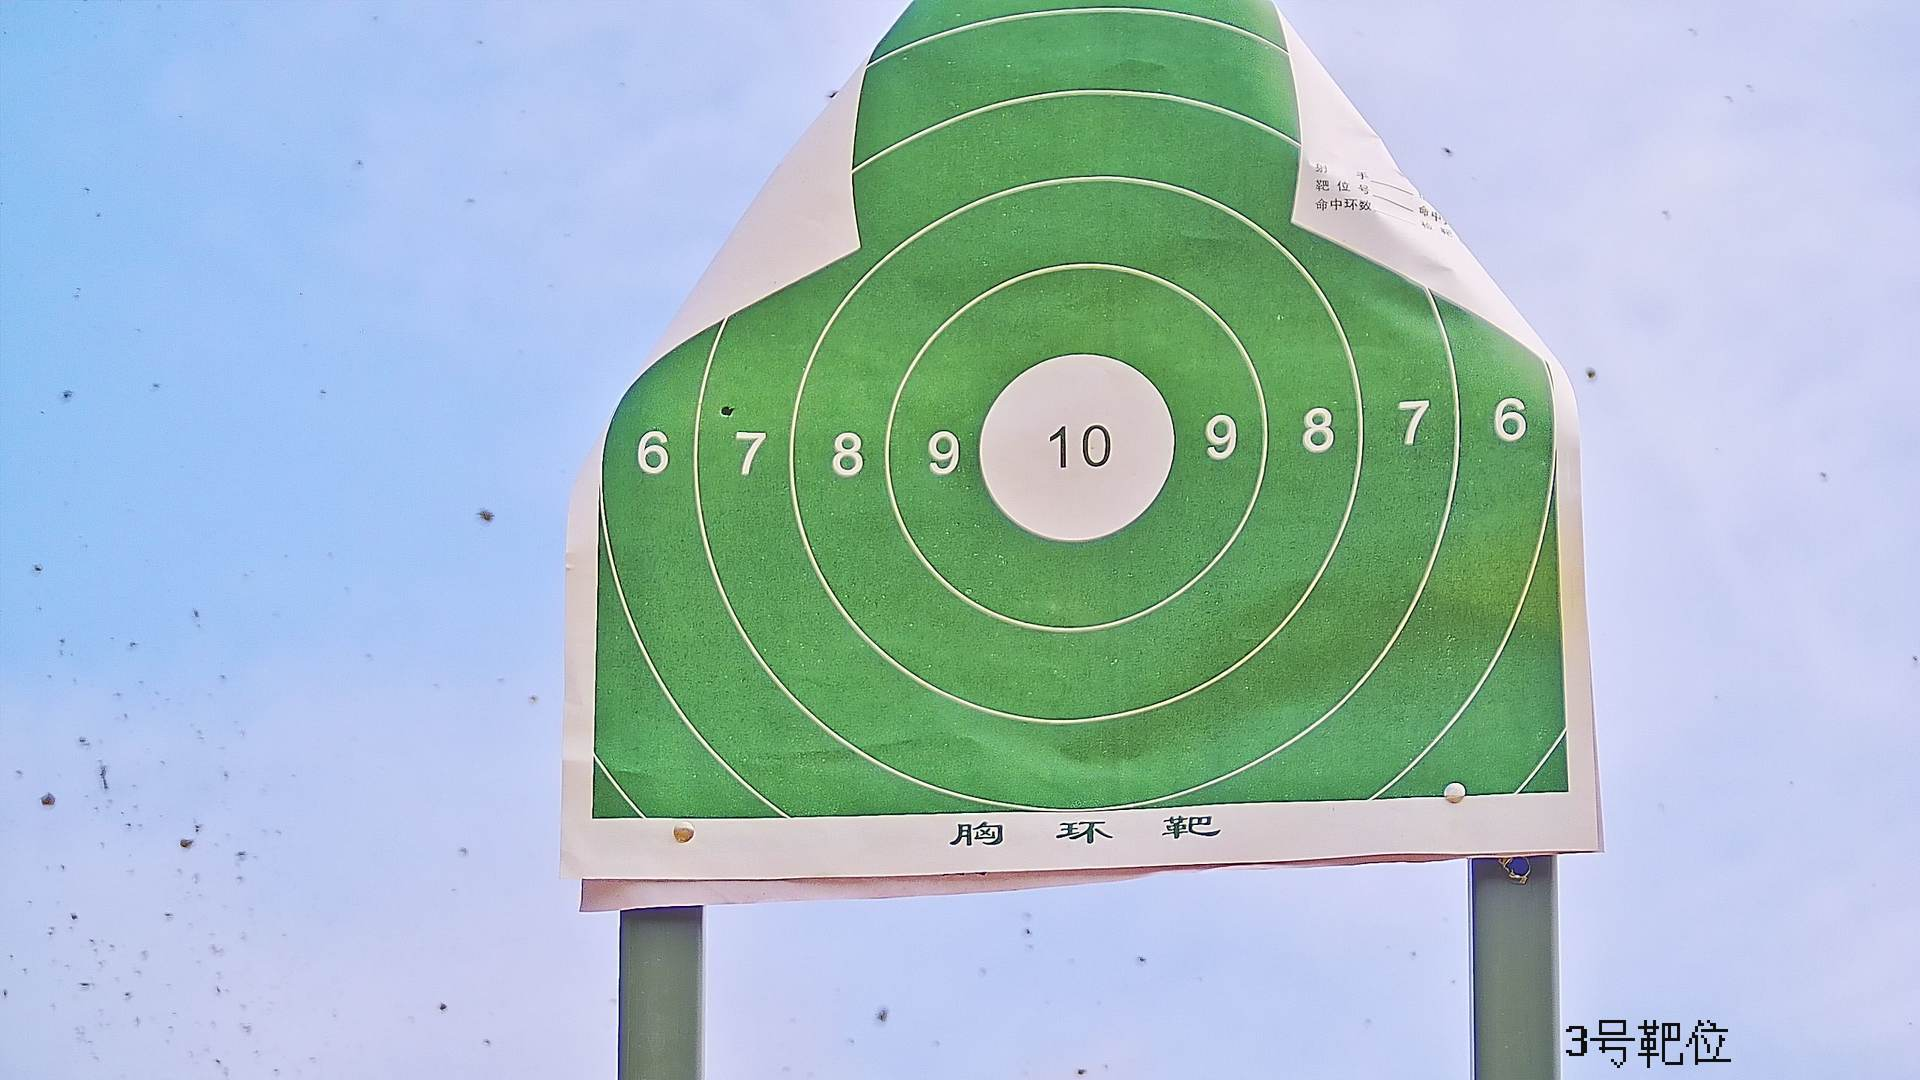hole: (717, 406, 737, 417)
kernel: (1073, 447, 1077, 448)
target: (596, 7, 1573, 828)
ten: (975, 351, 1178, 545)
